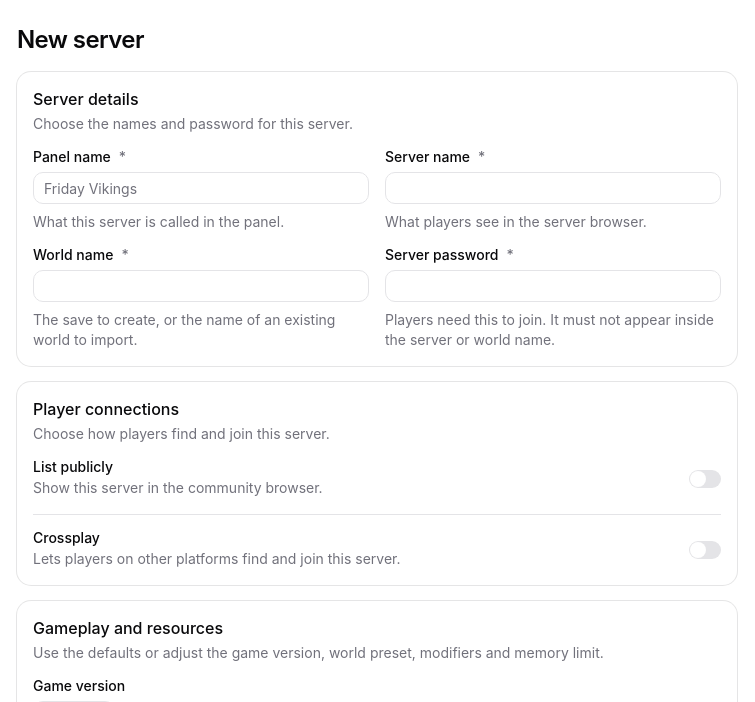
it: the create wizard › renders a field the daemon rejected beside it, and moves focus there
Type "friday" into the field labelled "Panel name *" at (201, 188), box left=33, top=172, right=369, bottom=204
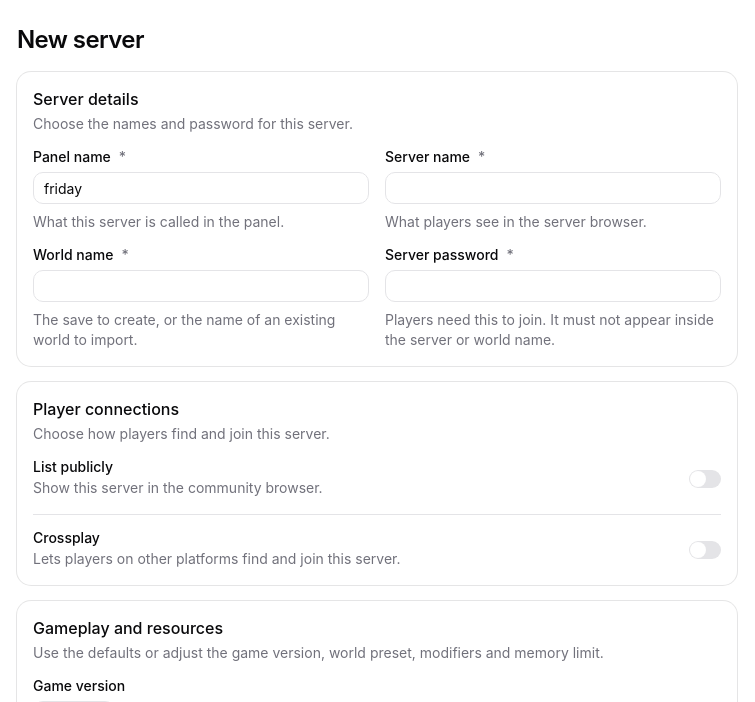
Type "Friday Vikings" into the field labelled "Server name *" at (553, 188), box left=385, top=172, right=721, bottom=204
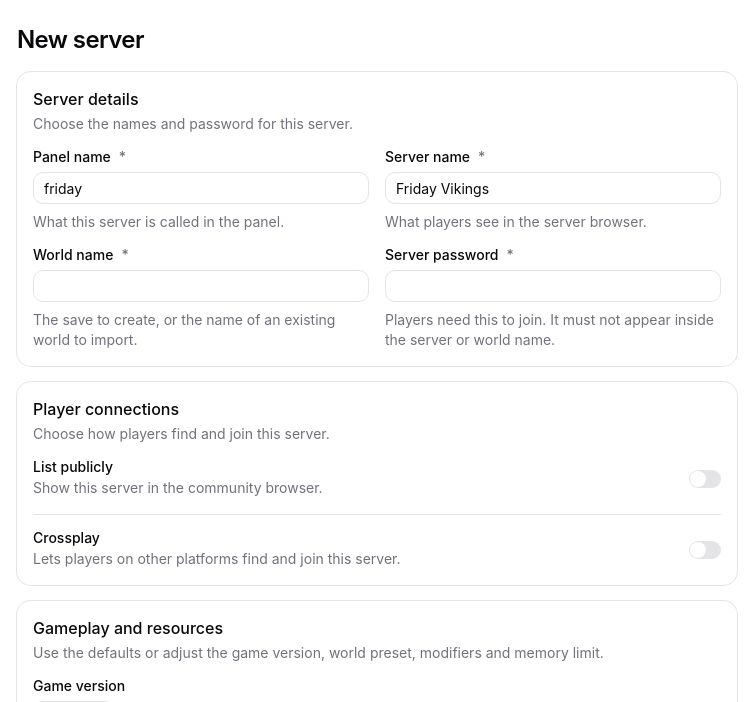
Type "Midgard" into the field labelled "World name *" at (201, 286), box left=33, top=270, right=369, bottom=302
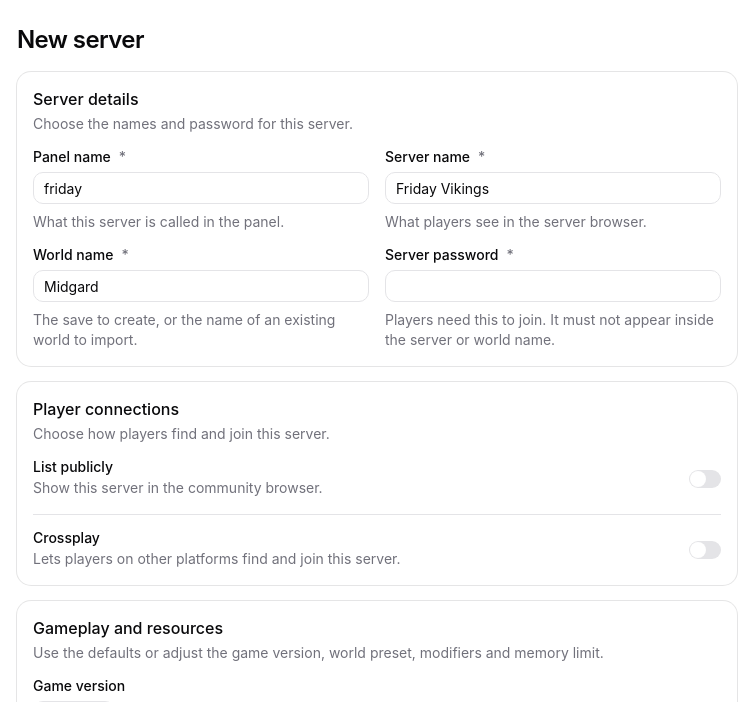
Type "correct-horse" into the password field labelled "Server password *" at (553, 286), box left=385, top=270, right=721, bottom=302
(page scrolled)
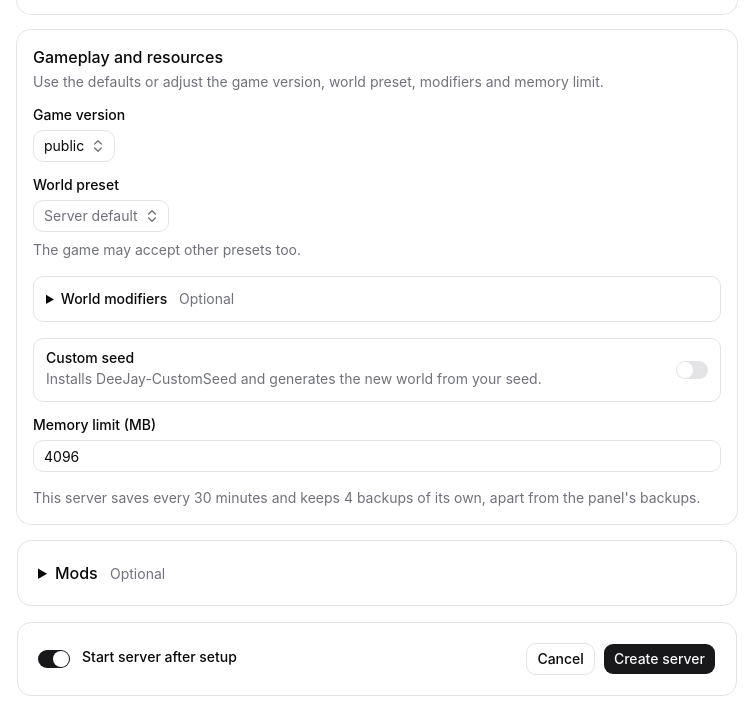
Click the button "Create server" at (659, 659), box left=603, top=643, right=716, bottom=675
(page scrolled)
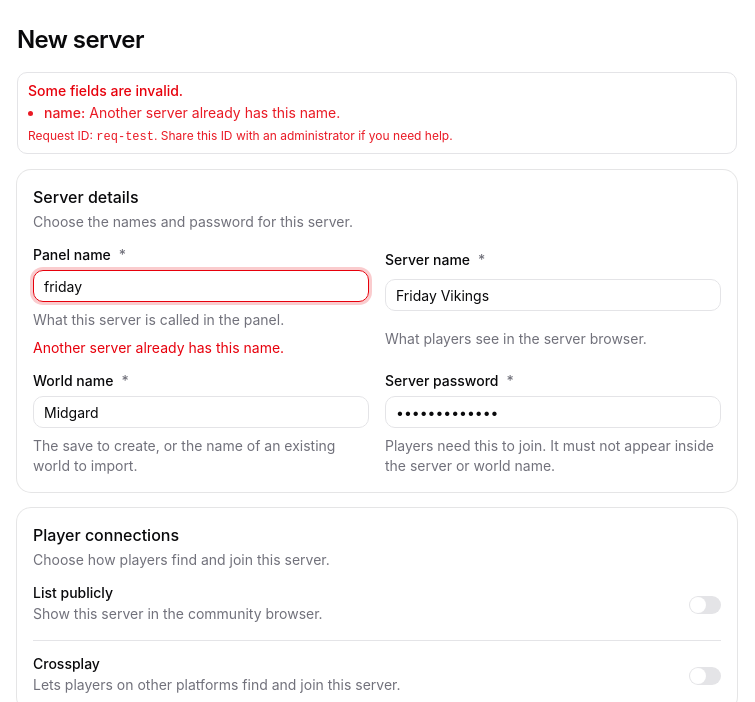
Expected: the message with id "name-error" reads "Another server already has this name.", left=33, top=339, right=284, bottom=356
